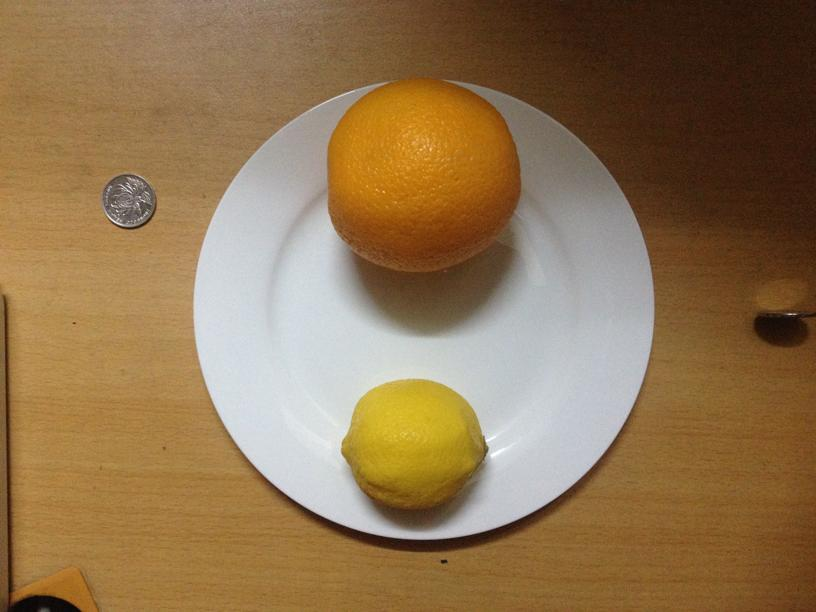coin: (103, 174, 155, 227)
lemon: (340, 377, 486, 511)
mango: (329, 76, 519, 273)
